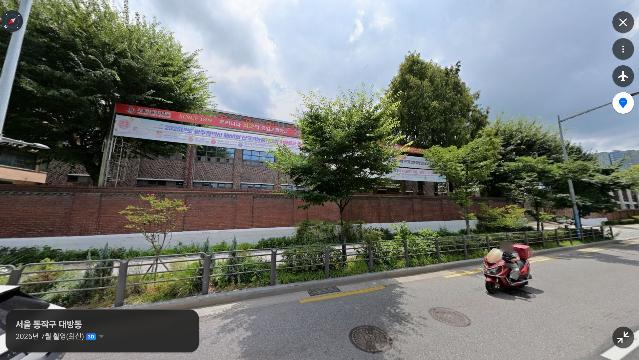other: (0, 0, 221, 185), (265, 80, 410, 254), (372, 49, 495, 161), (418, 134, 507, 239), (491, 141, 575, 234), (559, 150, 636, 232), (116, 192, 194, 258)
